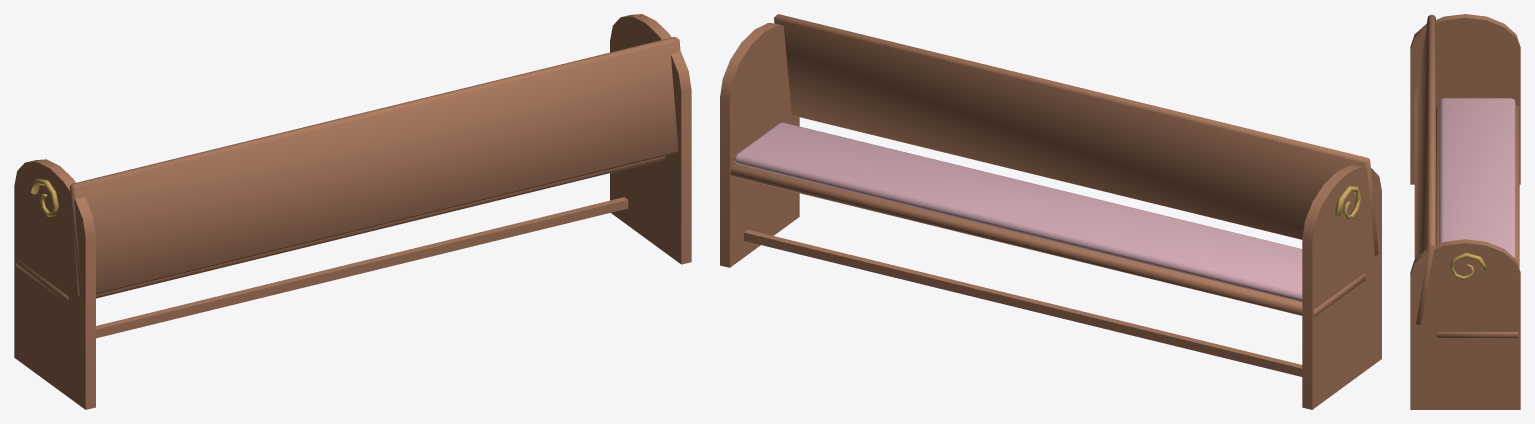
The model's file is pew.glb.
3 views of the same model, side by side, from view 1: azimuth 30°, elevation 25°; view 2: azimuth 150°, elevation 25°; view 3: azimuth 270°, elevation 25° (orthographic). The views are drawn at different scales.
Parts seen in each view (by area): view 1: pew; view 2: pew; view 3: pew.
Part boxes in pixels (<box>): pew: <box>14,14,691,409</box>; pew: <box>720,14,1381,409</box>; pew: <box>1410,14,1520,409</box>.
Size of what is drawn, in the model's own units: 3 by 1 by 0.6.
